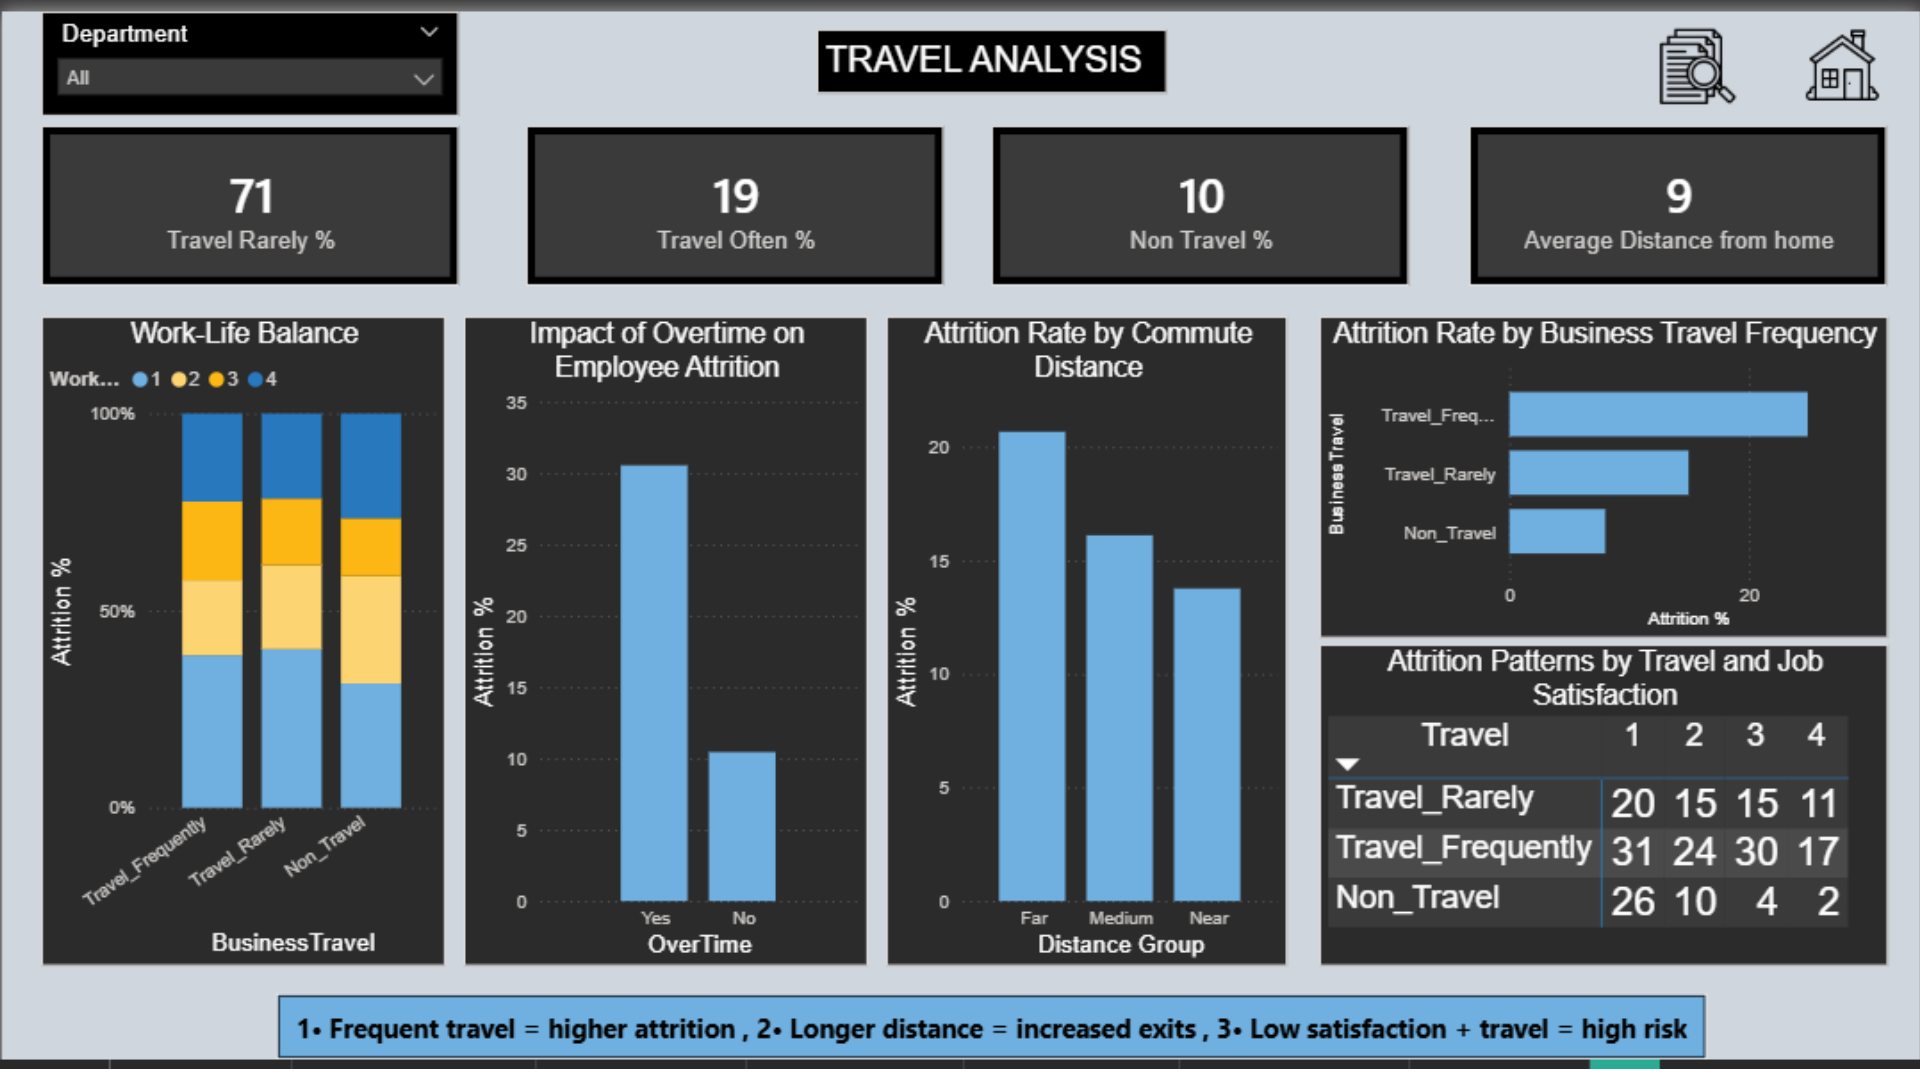

Layout of this report page (visuals, bound fields, positions):
{"tool":"powerbi","page":{"name":"Travel Analysis","canvas":[1280,720],"ordinal":4},"visuals":[{"type":"textbox","box":[543.7,12.4,234,42.7],"z":0},{"type":"cardVisual","fields":{"Data":["Travel Analysis Measures.Travel Often %"]},"box":[349.6,75.7,279.4,107.4],"z":1000},{"type":"cardVisual","fields":{"Data":["Travel Analysis Measures.Travel Rarely %"]},"box":[26.2,75.7,279.4,107.4],"z":2000},{"type":"cardVisual","fields":{"Data":["Travel Analysis Measures.Non Travel %"]},"box":[660.6,75.7,279.4,107.4],"z":3000},{"type":"cardVisual","fields":{"Data":["Travel Analysis Measures.Average Distance from home"]},"box":[980,75.7,279.4,107.4],"z":4000},{"type":"clusteredBarChart","title":"Attrition Rate by Business Travel Frequency","fields":{"Category":["Employees_Database.BusinessTravel"],"Y":["Overview Measures.Attrition %"]},"box":[879.5,203.7,379.9,214.7],"z":5000},{"type":"clusteredColumnChart","title":"Attrition Rate by Commute Distance","fields":{"Category":["Employees_Database.Distance Group"],"Y":["Overview Measures.Attrition %"]},"box":[590.5,203.7,268.4,433.5],"z":6000},{"type":"pivotTable","title":"Attrition Patterns by Travel and Job Satisfaction","fields":{"Rows":["Employees_Database.BusinessTravel"],"Columns":["Employees_Database.JobSatisfaction"],"Values":["Home Page Measures.Atrition Rate %"]},"box":[879.5,422.5,379.9,214.7],"z":7000},{"type":"hundredPercentStackedColumnChart","title":"Work-Life Balance","fields":{"Category":["Employees_Database.BusinessTravel"],"Series":["Employees_Database.WorkLifeBalance"],"Y":["Overview Measures.Attrition %"]},"box":[26.2,203.7,269.8,433.5],"z":8000},{"type":"slicer","fields":{"Values":["Employees_Database.Department"]},"box":[26.2,0,279.4,70.2],"z":9000},{"type":"shape","box":[183.1,656.5,955.2,44],"z":10000},{"type":"clusteredColumnChart","title":"Impact of Overtime on Employee Attrition","fields":{"Y":["Overview Measures.Attrition %"],"Category":["Employees_Database.OverTime"]},"box":[308.3,203.7,269.8,433.5],"z":11000},{"type":"image","box":[1200.2,11,57.8,52.3],"z":12000},{"type":"image","box":[1103.8,11,57.8,52.3],"z":13000}]}

Visuals, with their boxes in screenshot pixels (x1, y1, x2, y2), scaled from the page's 1280x720 canvas onto the 1920x1080 screenshot:
textbox: x1=816 y1=19 x2=1167 y2=83
cardVisual - Travel Analysis Measures.Travel Often %: x1=524 y1=114 x2=944 y2=275
cardVisual - Travel Analysis Measures.Travel Rarely %: x1=39 y1=114 x2=458 y2=275
cardVisual - Travel Analysis Measures.Non Travel %: x1=991 y1=114 x2=1410 y2=275
cardVisual - Travel Analysis Measures.Average Distance from home: x1=1470 y1=114 x2=1889 y2=275
"Attrition Rate by Business Travel Frequency" clusteredBarChart: x1=1319 y1=306 x2=1889 y2=628
"Attrition Rate by Commute Distance" clusteredColumnChart: x1=886 y1=306 x2=1288 y2=956
"Attrition Patterns by Travel and Job Satisfaction" pivotTable: x1=1319 y1=634 x2=1889 y2=956
"Work-Life Balance" hundredPercentStackedColumnChart: x1=39 y1=306 x2=444 y2=956
slicer - Employees_Database.Department: x1=39 y1=0 x2=458 y2=105
shape: x1=275 y1=985 x2=1707 y2=1051
"Impact of Overtime on Employee Attrition" clusteredColumnChart: x1=462 y1=306 x2=867 y2=956
image: x1=1800 y1=16 x2=1887 y2=95
image: x1=1656 y1=16 x2=1742 y2=95
